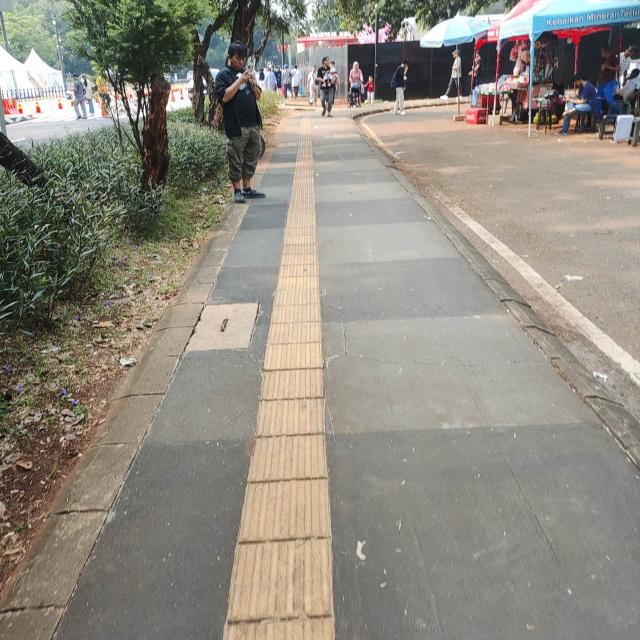lurus: (250, 133, 338, 640)
